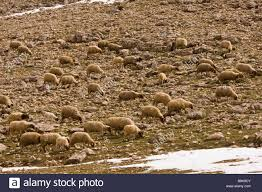sheep: (82, 119, 111, 137), (140, 105, 166, 124), (168, 96, 193, 115), (70, 131, 96, 149), (107, 116, 134, 133), (60, 105, 82, 125), (214, 84, 239, 101), (119, 88, 144, 103), (19, 131, 40, 148), (10, 121, 37, 134), (123, 123, 144, 139), (236, 61, 257, 77), (153, 91, 171, 109), (85, 63, 105, 79), (220, 70, 243, 82), (157, 62, 180, 73), (43, 72, 59, 87), (197, 63, 217, 75), (88, 83, 104, 97), (62, 75, 79, 88), (17, 45, 32, 58), (58, 53, 73, 66), (157, 71, 168, 85), (87, 45, 102, 55)
